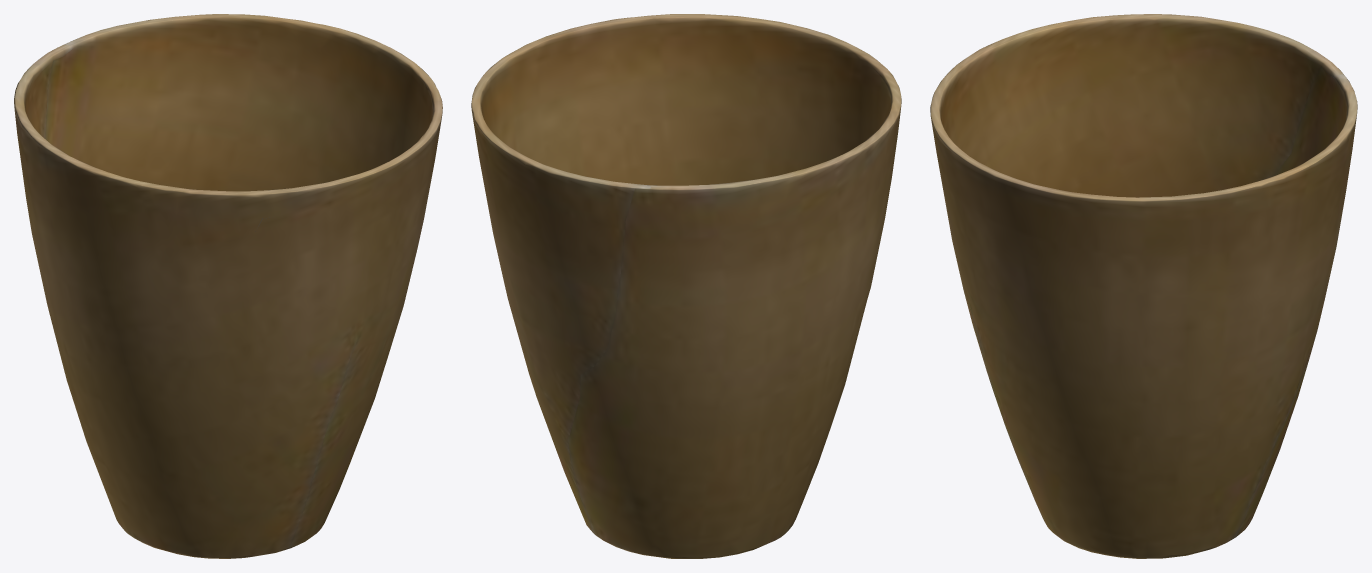
Rendered from gso_ecoforms_plant_container_urn_nat.glb.
3 views of the same model, side by side, from view 1: azimuth 30°, elevation 25°; view 2: azimuth 150°, elevation 25°; view 3: azimuth 270°, elevation 25° (orthographic).
Visible parts, largest first — view 1: z-up-to-y-up; view 2: z-up-to-y-up; view 3: z-up-to-y-up.
Part boxes in pixels (box(x1,y1,x2,y2)): z-up-to-y-up: box(14, 14, 442, 558); z-up-to-y-up: box(471, 14, 901, 558); z-up-to-y-up: box(930, 14, 1357, 558).
Bounding box in the file's own units: 0.1489 × 0.1599 × 0.1489.
Materials: 1 (1 with a texture image).
